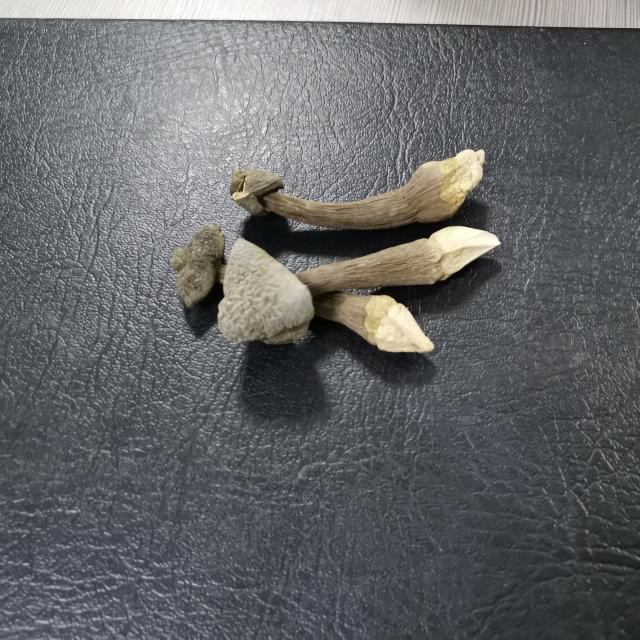Collybia albuminosa: (175, 219, 496, 358), (232, 148, 490, 226)
